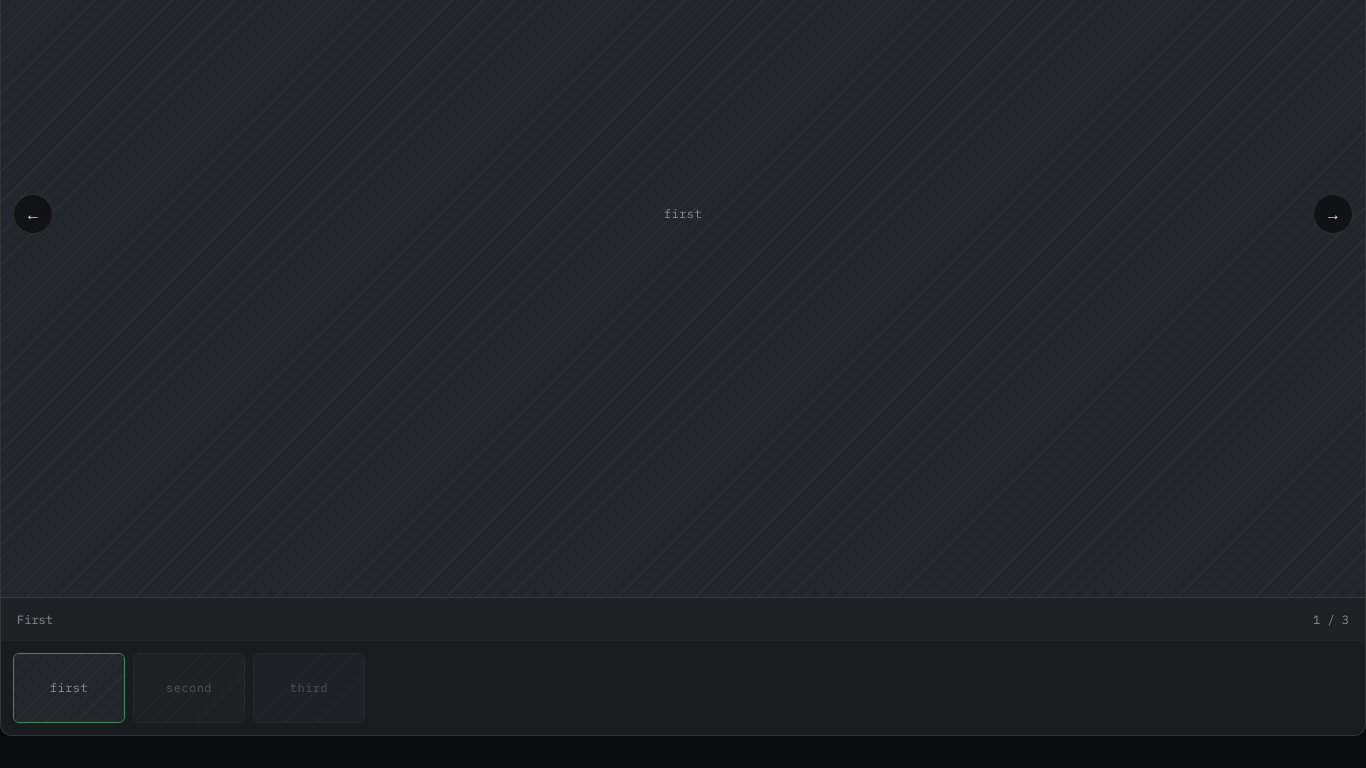
Test: Carousel › jumps to a slide when a thumbnail is clicked
(page scrolled)
What coordinates should you click on to do the following:
click the button named "go to screenshot 3"
I would click on:
 (309, 688)
Its box is [253,653,365,723].
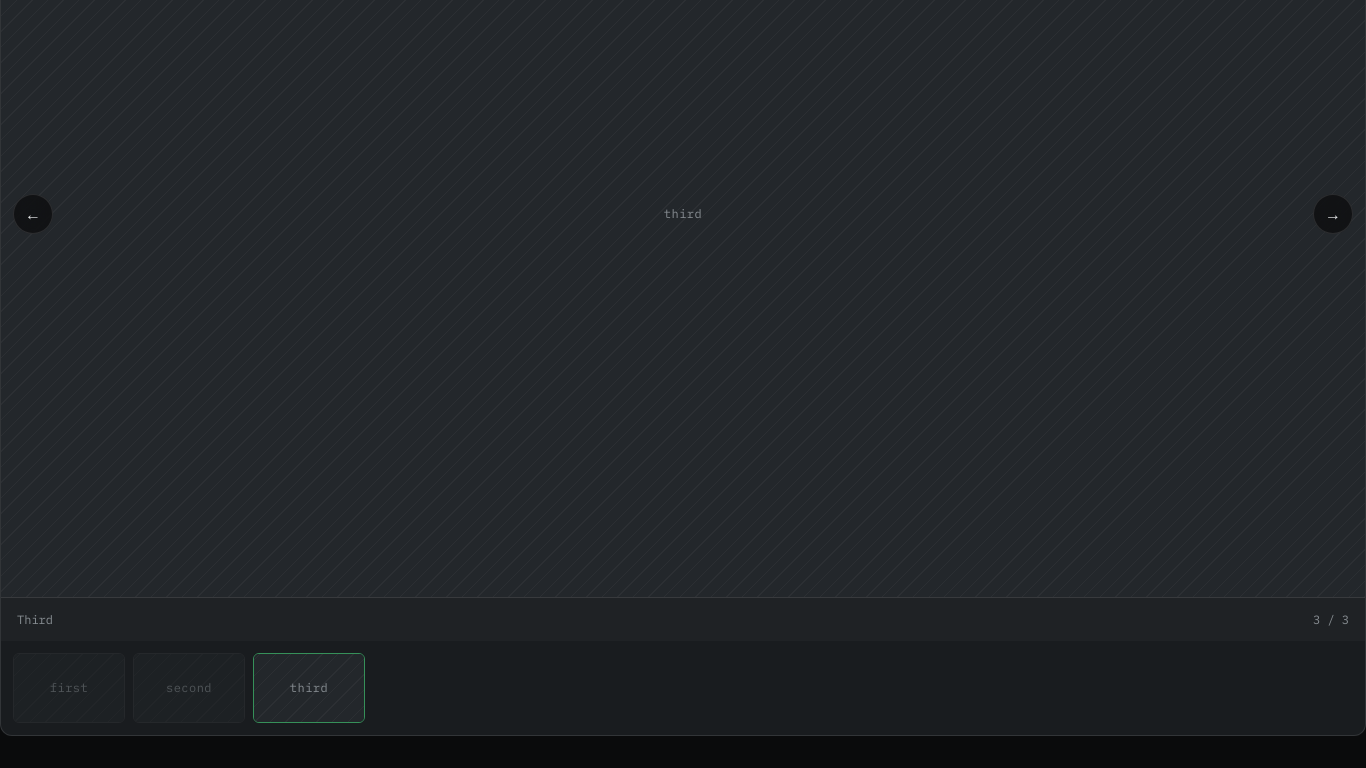
expect the text "3 / 3" is shown: met, box [1313,612,1349,628]
